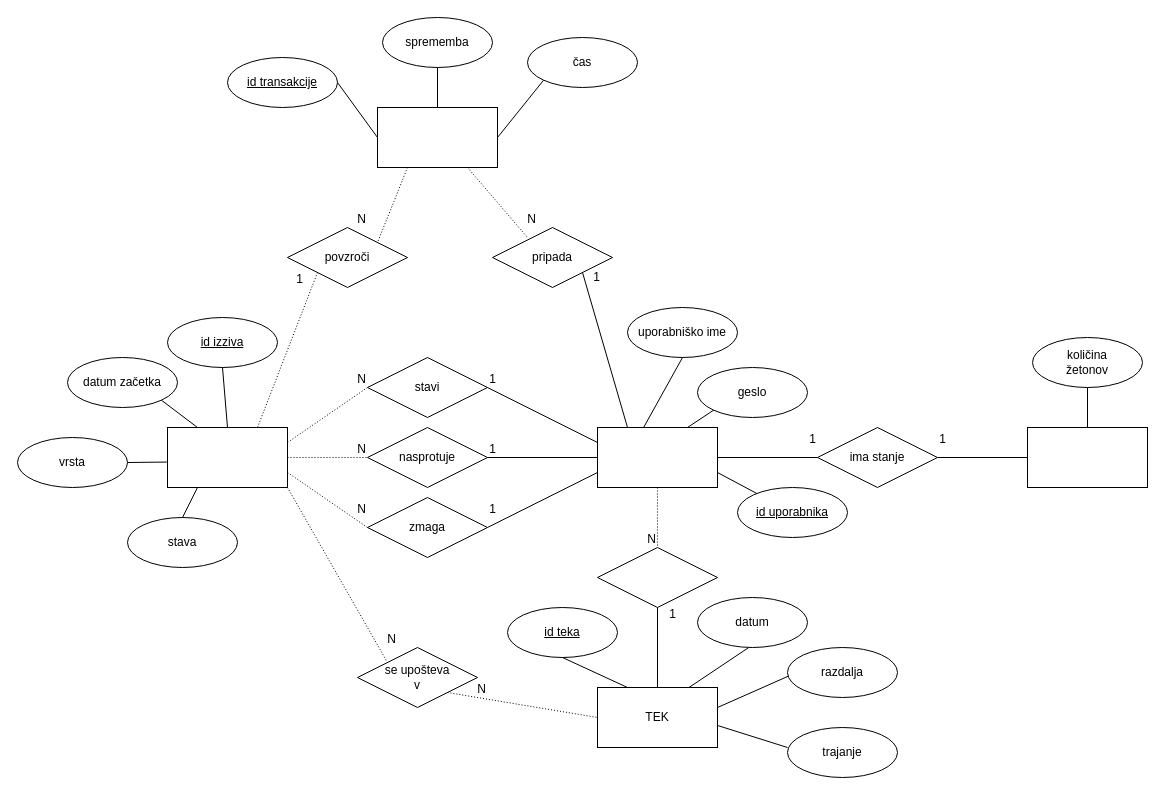
Some shapes in this 1165 by 795 pixel diagram are drawn without their labels. Here are the shapes that lost their labels. From the top down, the centre of each, then its label:
At (437,137): "TRANSAKCIJE".
At (227,457): "IZZIV".
At (657,457): "UPORABNIK".
At (1087,457): "STANJE".
At (657,577): "teče".
